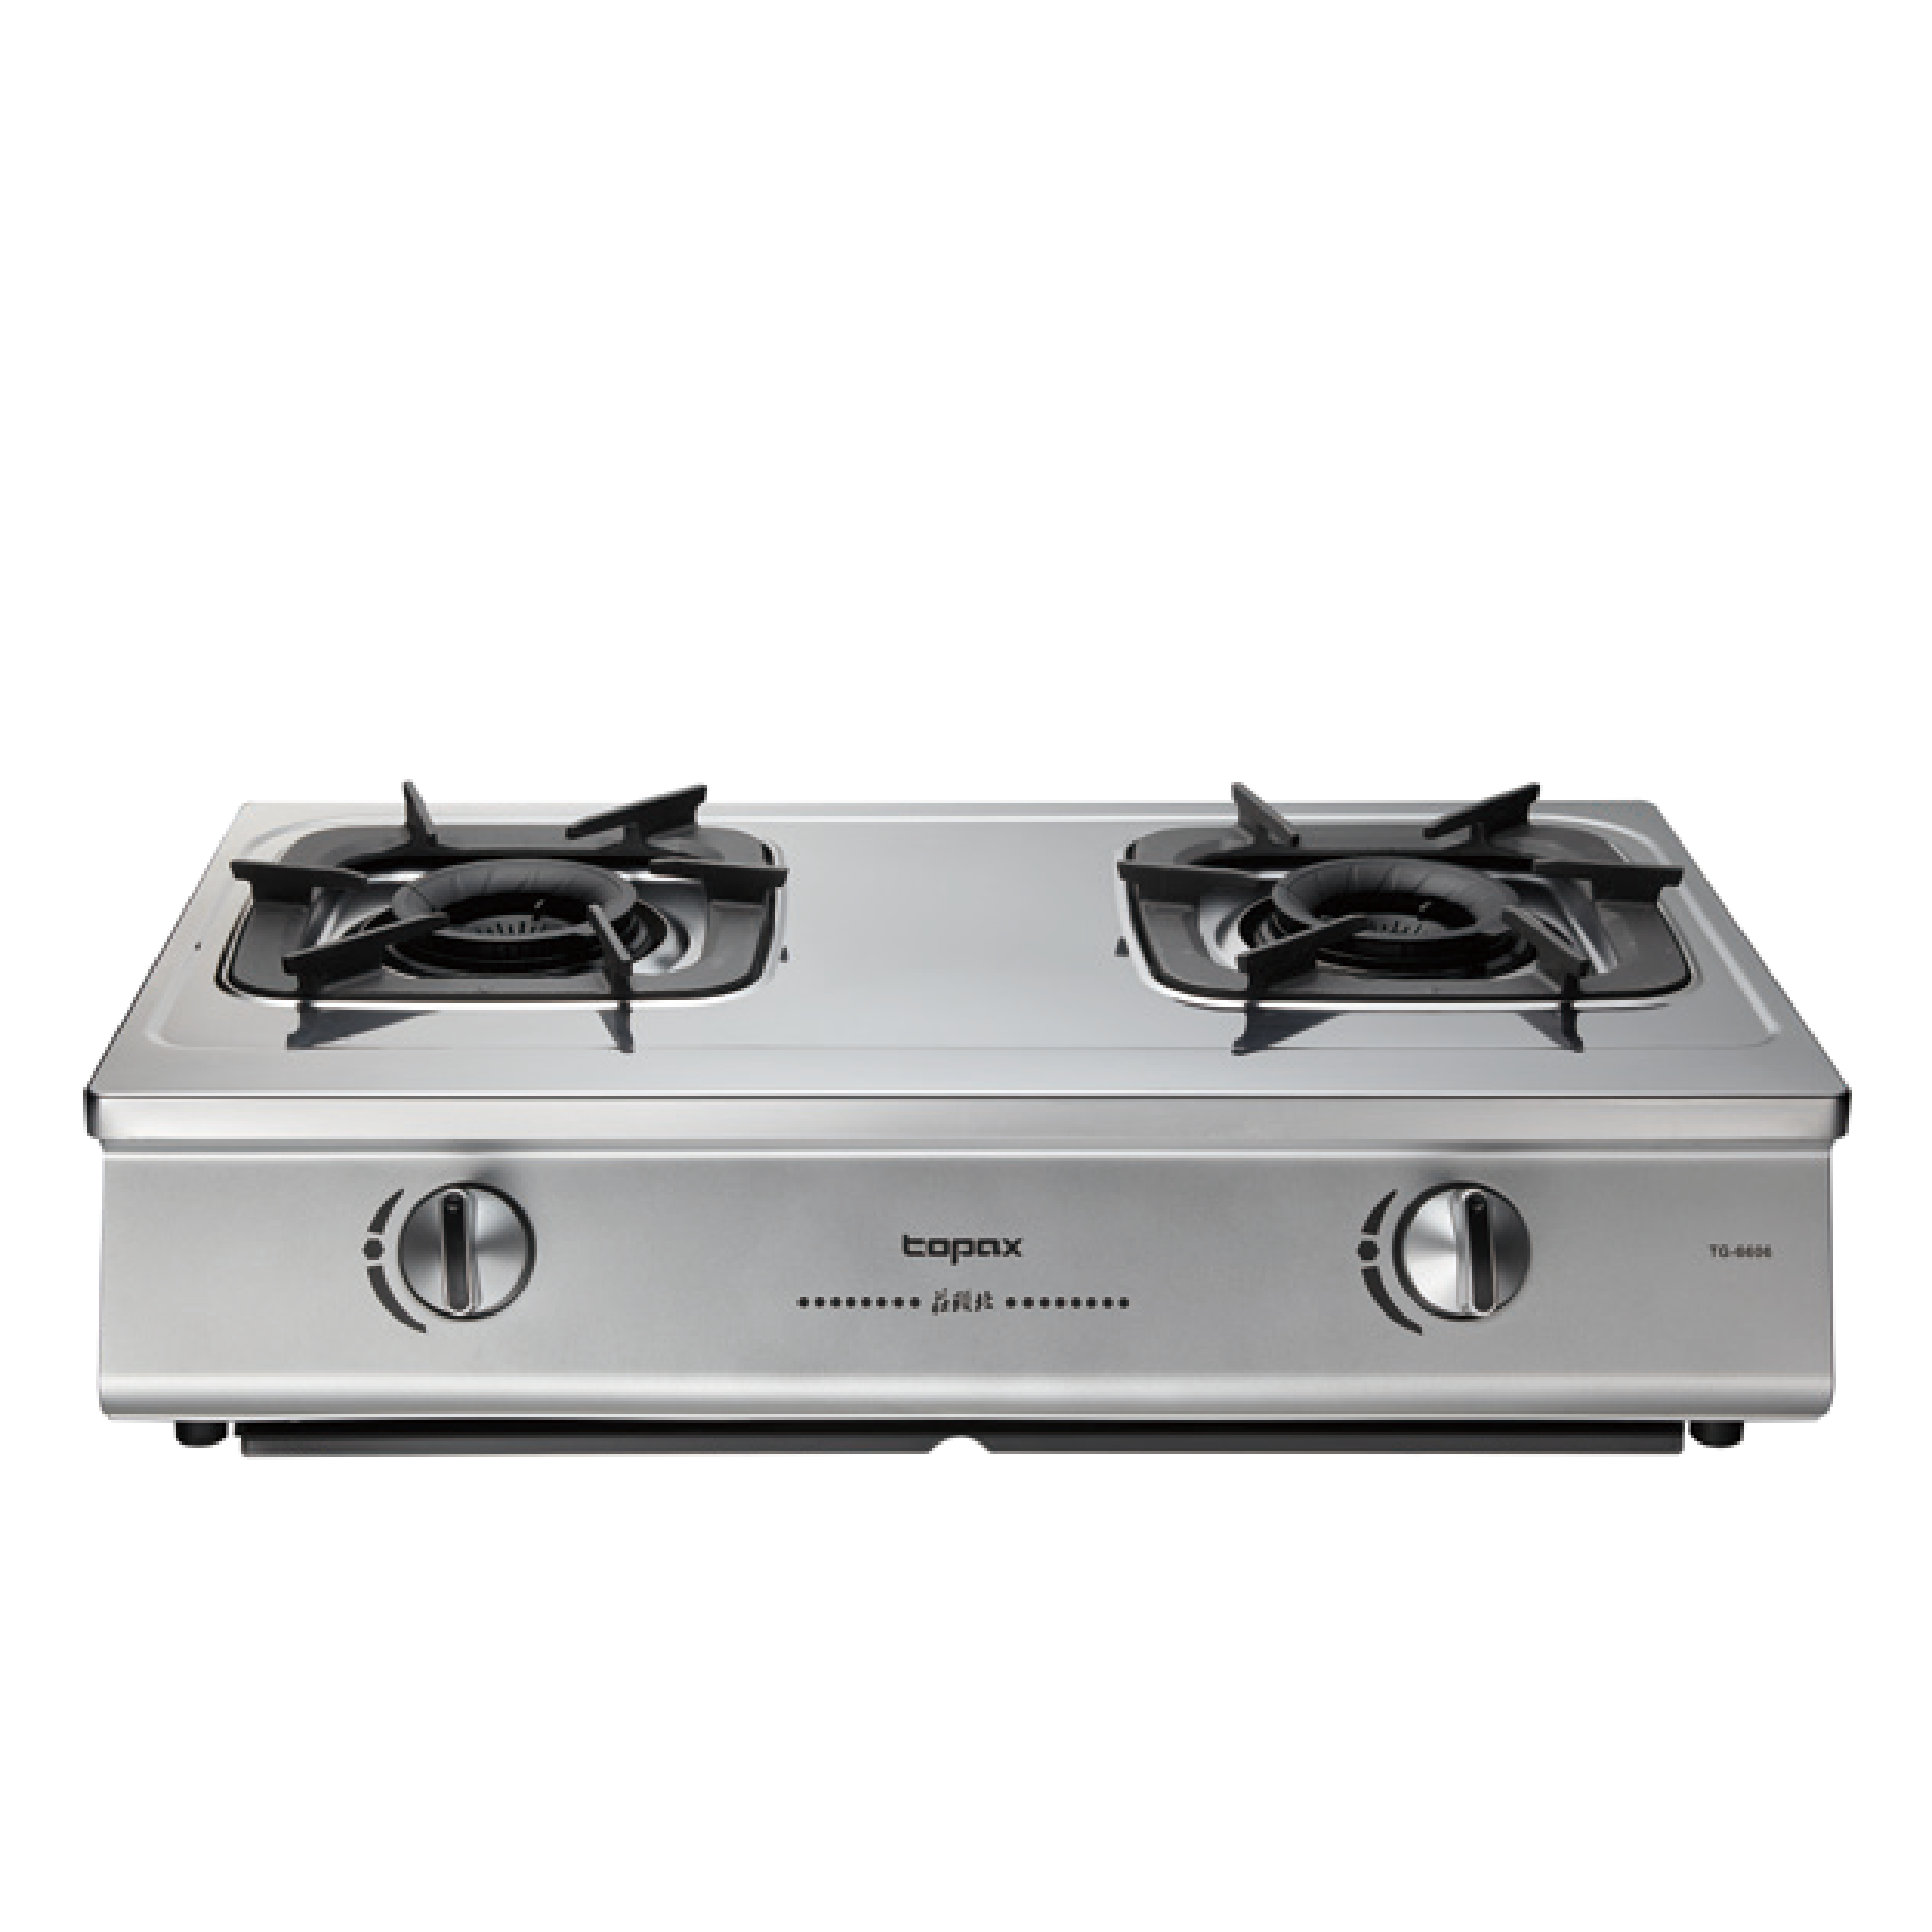gasoven: (65, 768, 1859, 1481)
